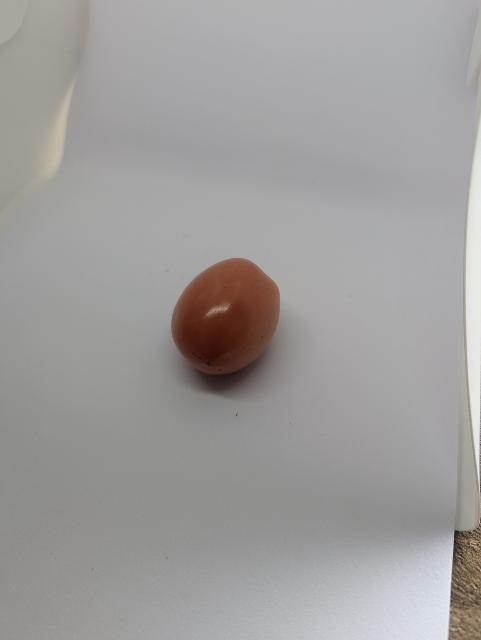red: (162, 248, 289, 385)
